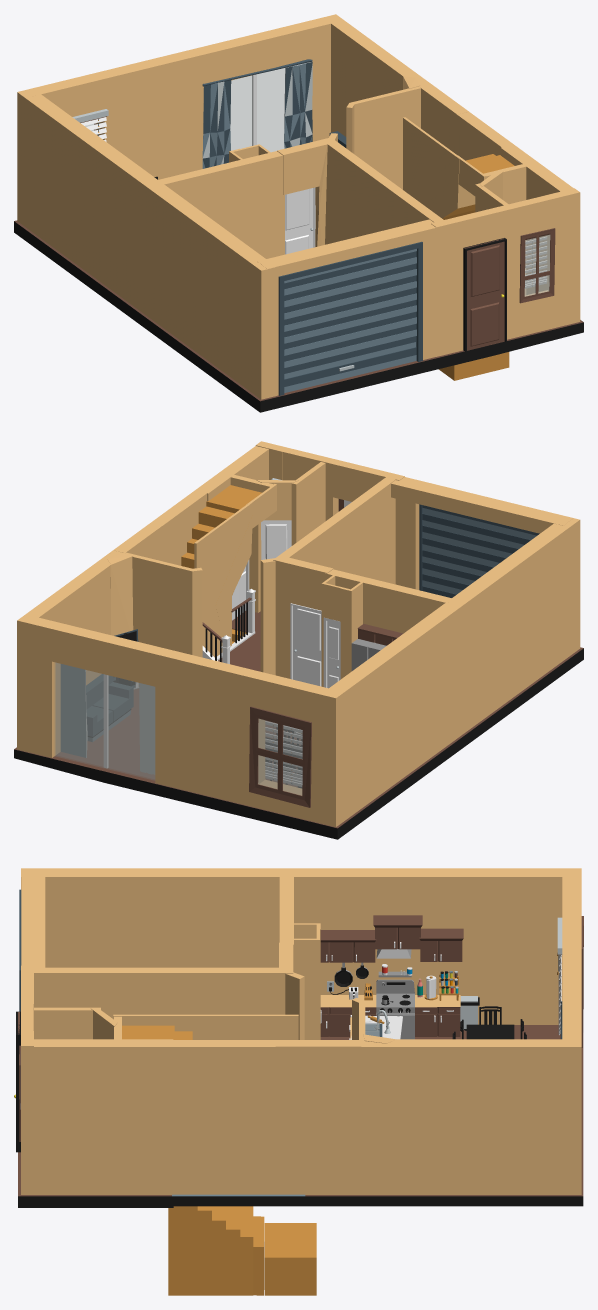
File: lux-0.glb
The picture shows the model from 3 angles, top to bottom: view 1: azimuth 30°, elevation 25°; view 2: azimuth 150°, elevation 25°; view 3: azimuth 270°, elevation 25°; orthographic projection. The views are drawn at different scales.
Parts seen in each view (by area): view 1: group495296466, group1913084164, group307745849, group2080810550, group9161348, group1643865836, group926669251, group2086210920, group181332527, group951913594, group1904967002, group786249837 (+30 smaller); view 2: group495296466, group1913084164, group2080810550, group307745849, group1643865836, group926669251, group118787976, group165172110, group2086210920, group1838945717, group9161348, group915637670 (+29 smaller); view 3: group495296466, group2086210920, group359096643, group1749033926, group926669251, group1253599739, group2080810550, group1359558576, group1193142137, group452664685, group1838945717, group1128296297 (+29 smaller).
Boxes of the visible parts, box(x1,y1,x2,y2) form: group495296466: box(17, 93, 276, 399); group1913084164: box(17, 48, 205, 220); group307745849: box(202, 59, 312, 168); group2080810550: box(14, 220, 583, 412); group9161348: box(156, 151, 284, 258); group1643865836: box(198, 16, 334, 141); group926669251: box(322, 137, 443, 244); group2086210920: box(327, 14, 427, 136); group181332527: box(431, 207, 502, 356); group951913594: box(284, 281, 416, 349); group1904967002: box(463, 238, 506, 351); group786249837: box(497, 194, 556, 339); group495296466: box(329, 518, 580, 826); group1913084164: box(155, 648, 343, 826); group2080810550: box(14, 611, 583, 839); group307745849: box(55, 662, 155, 780); group1643865836: box(26, 617, 163, 757); group926669251: box(273, 477, 395, 676); group118787976: box(249, 706, 311, 807); group165172110: box(118, 552, 192, 654); group2086210920: box(17, 553, 119, 751); group1838945717: box(391, 477, 573, 533); group9161348: box(325, 569, 453, 633); group915637670: box(194, 517, 231, 657); group495296466: box(21, 868, 562, 1024); group2086210920: box(365, 1039, 581, 1194); group359096643: box(34, 1039, 173, 1194); group1749033926: box(169, 1040, 285, 1194); group926669251: box(34, 967, 293, 1018); group1253599739: box(275, 1040, 361, 1194); group2080810550: box(18, 1025, 583, 1207); group1359558576: box(264, 1223, 316, 1295); group1193142137: box(320, 995, 460, 1036); group452664685: box(352, 1041, 371, 1194); group1838945717: box(21, 871, 45, 967); group1128296297: box(21, 1031, 33, 1194).
Bounding box in the file's own units: 7.04 × 4.58 × 9.34.
